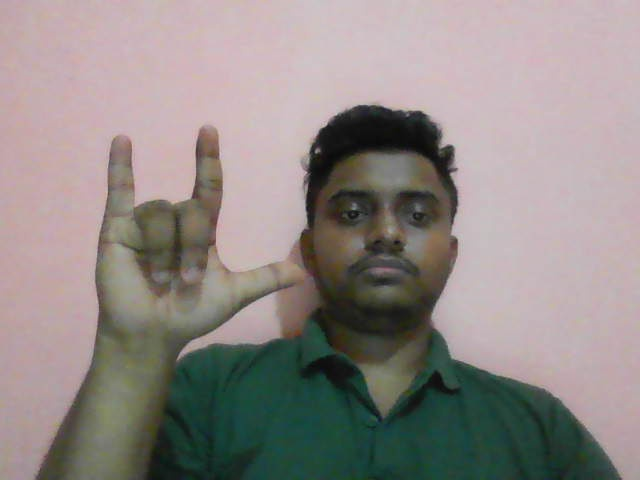I Love You: (85, 116, 313, 356)
